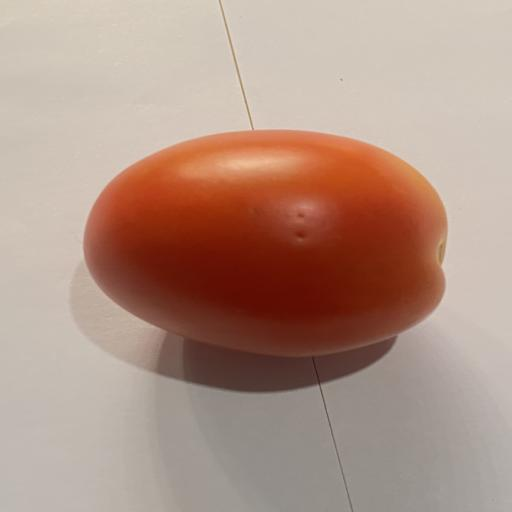ripe: (83, 130, 447, 357)
